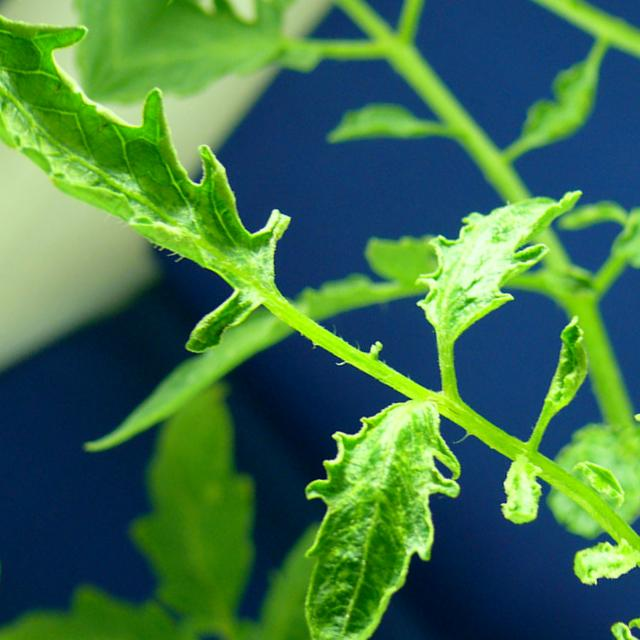Tomato leaf mosaic virus: (171, 355, 538, 640), (11, 70, 337, 379), (375, 125, 609, 371), (422, 491, 587, 640)
